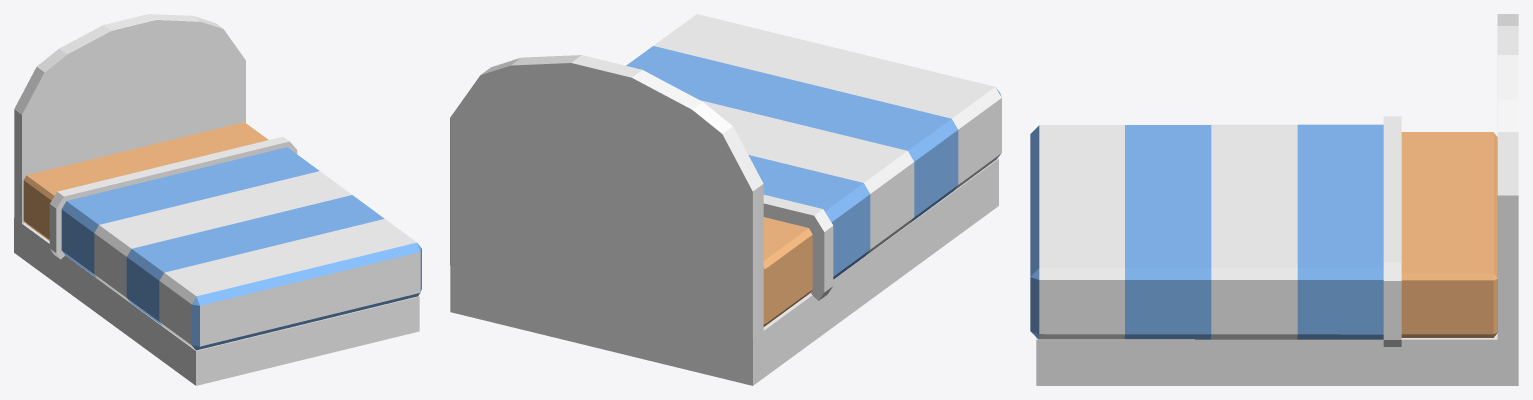
File: Double Bed_6.fbx
3 renders of one model, left to right at view 1: azimuth 30°, elevation 25°; view 2: azimuth 150°, elevation 25°; view 3: azimuth 270°, elevation 25°, orthographic. The views are drawn at different scales.
Parts seen in each view (by area): view 1: Double Bed_6; view 2: Double Bed_6; view 3: Double Bed_6.
Boxes of the visible parts, left/top/right/bottom form: Double Bed_6: left=14, top=14, right=421, bottom=385; Double Bed_6: left=450, top=14, right=1001, bottom=385; Double Bed_6: left=1030, top=14, right=1518, bottom=385.
Bounding box in the file's own units: 1.86 × 1.52 × 2.46.
